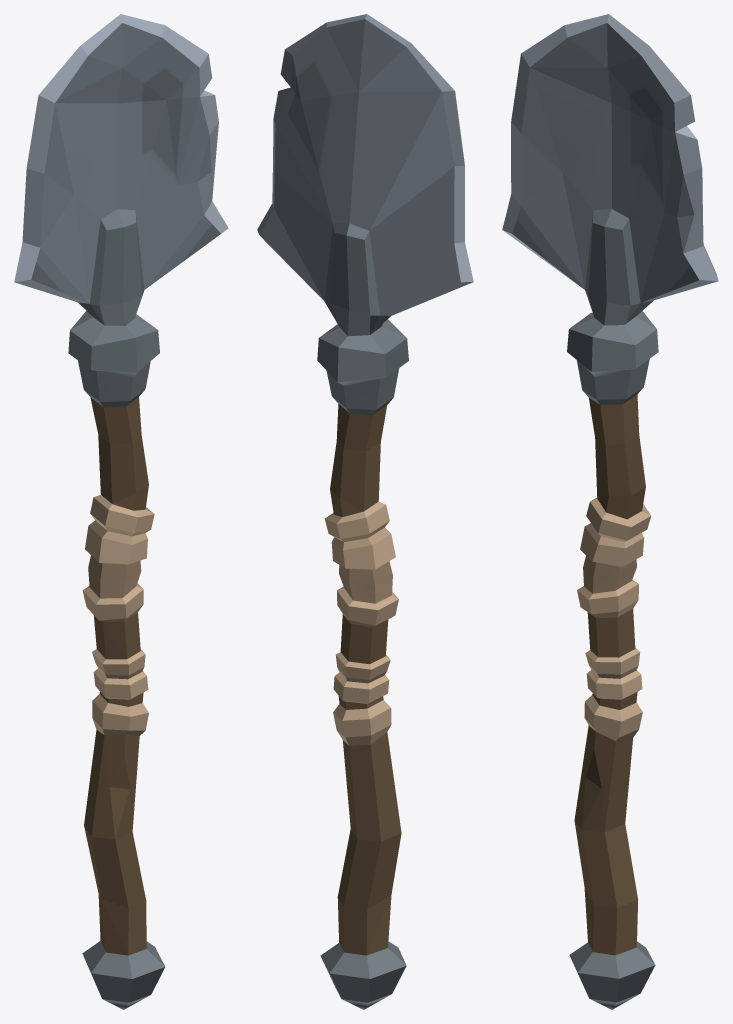
The model's file is SM_Prop_Shovel_01.fbx.
3 views of the same model, side by side, from view 1: azimuth 30°, elevation 25°; view 2: azimuth 150°, elevation 25°; view 3: azimuth 330°, elevation 25° (orthographic).
Parts seen in each view (by area): view 1: SM_Prop_Shovel_01; view 2: SM_Prop_Shovel_01; view 3: SM_Prop_Shovel_01.
Part boxes in pixels (x1=…): SM_Prop_Shovel_01: x1=14, y1=14, x2=228, y2=1009; SM_Prop_Shovel_01: x1=257, y1=14, x2=473, y2=1009; SM_Prop_Shovel_01: x1=502, y1=14, x2=718, y2=1009.
Size of the model in its own units: 30.34 by 134 by 12.5.
